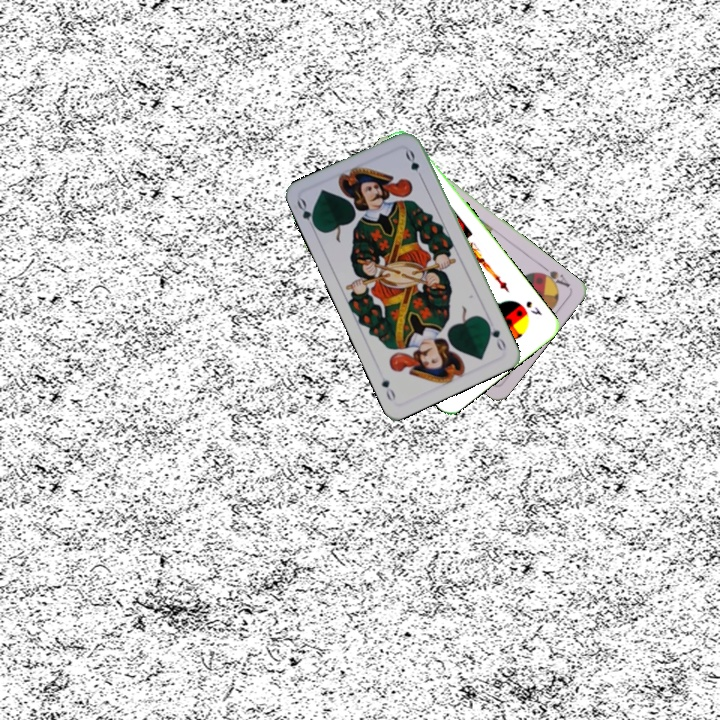GO: (482, 315, 509, 354), (293, 195, 320, 234)
SA: (534, 261, 573, 291)
SK: (522, 297, 545, 318)
